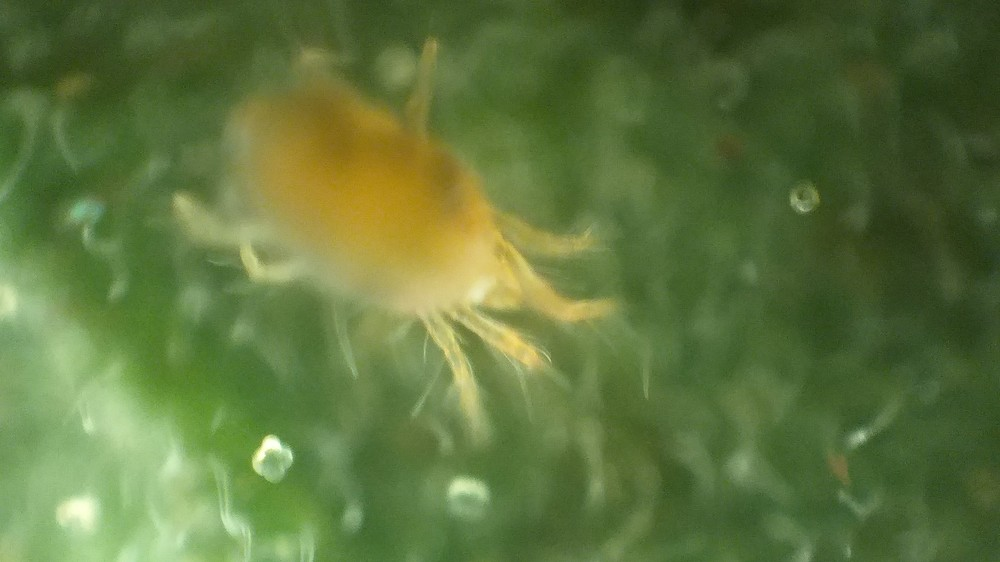Aracnido Rojo: (136, 29, 653, 431)
